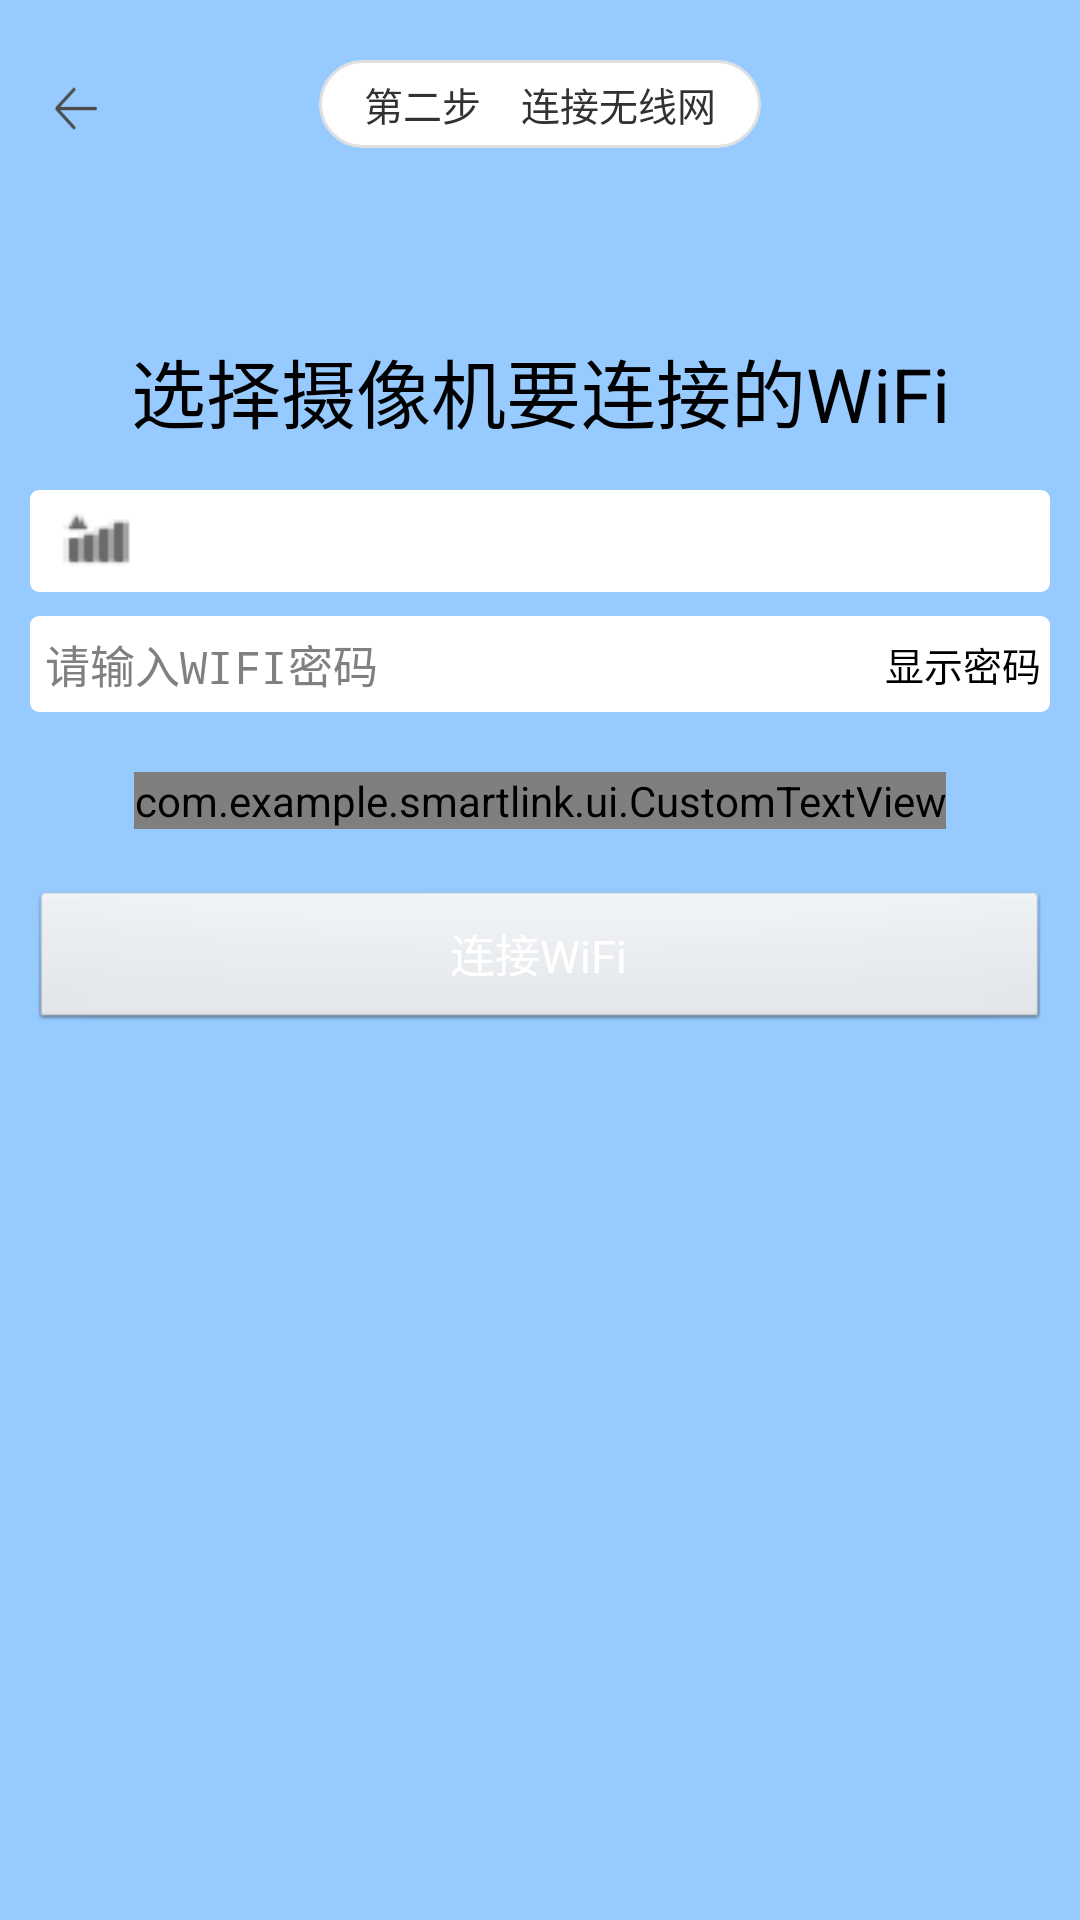

Where to tap for icons on this 1080 x 1920 app screen, as (x=x, y=y):
title back: (x=76, y=108)
